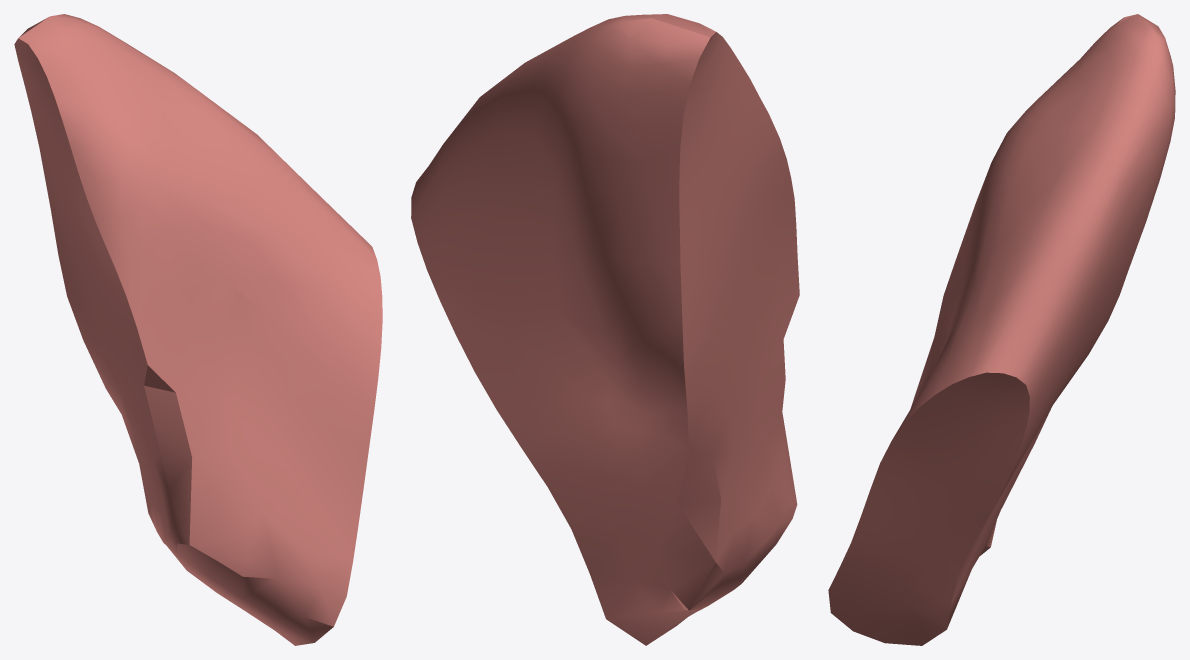
The model's file is fma39268-n_mm1934m.glb.
3 renders of one model, left to right at view 1: azimuth 30°, elevation 25°; view 2: azimuth 150°, elevation 25°; view 3: azimuth 270°, elevation 25°, orthographic. The views are drawn at different scales.
Parts seen in each view (by area): view 1: FMA39268-N_MM1934M; view 2: FMA39268-N_MM1934M; view 3: FMA39268-N_MM1934M.
Boxes of the visible parts, box(x1,y1,x2,y2) form: FMA39268-N_MM1934M: box(14, 14, 382, 645); FMA39268-N_MM1934M: box(411, 14, 799, 645); FMA39268-N_MM1934M: box(828, 14, 1175, 645).
Bounding box in the file's own units: 0.0103 × 0.0199 × 0.0111.
